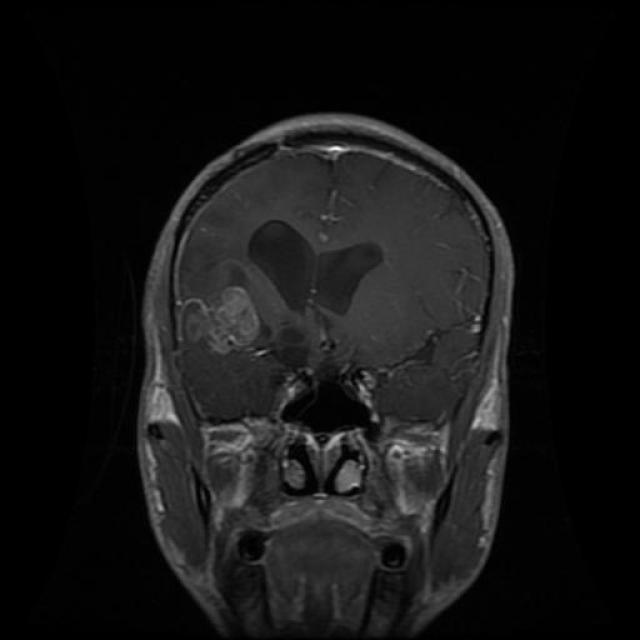glioma: (250, 218, 381, 316)
